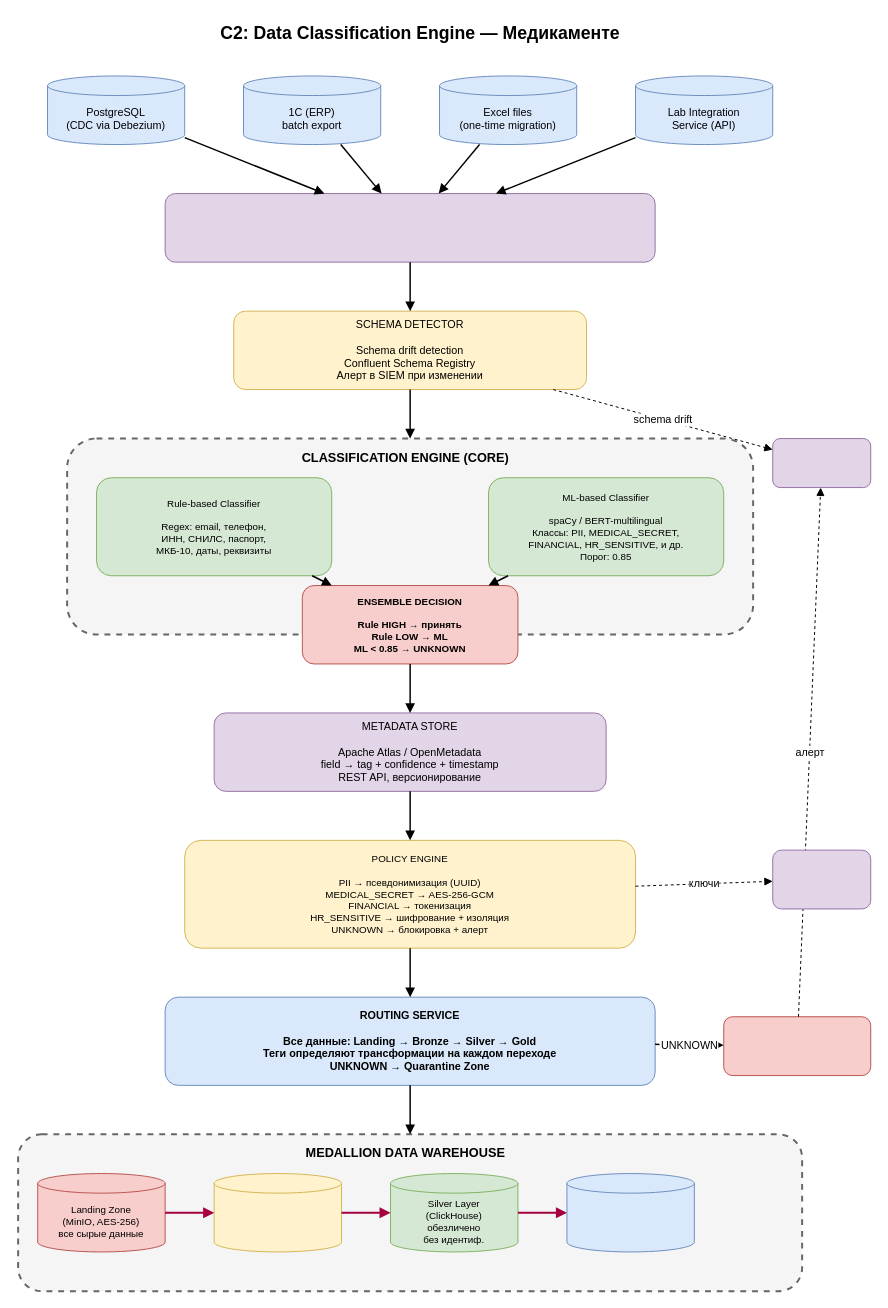
Some shapes in this 888 by 1308 pixel diagram are drawn without their labels. The box of each missing label's shape, as (x1, y1, x2, y2) in pixels:
Bronze Layer (ClickHouse) псевдонимиз. зашифровано: (213, 1173, 342, 1252)
Gold Layer (ClickHouse) агрегаты без PII: (566, 1173, 694, 1252)
HashiCorp Vault (ключи): (772, 849, 871, 909)
INGESTION LAYER Apache Kafka (TLS-шифрование топиков) Retention: 7 дней, RF: 3: (164, 193, 655, 262)
Quarantine Zone UNKNOWN-данные Human review queue: (723, 1016, 871, 1076)
SIEM (алерты): (772, 438, 871, 488)
